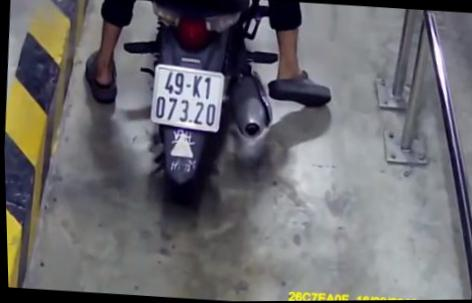LP: (147, 64, 226, 133)
